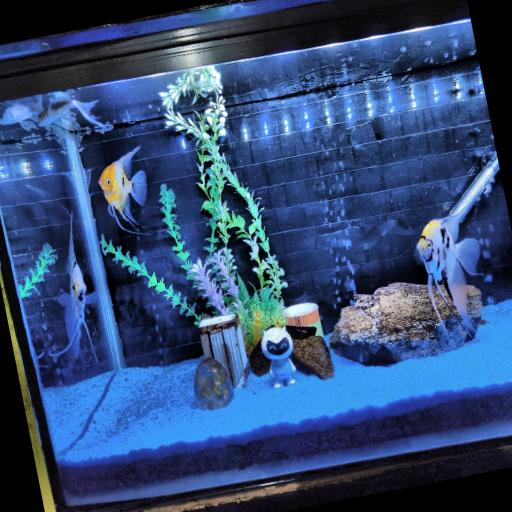Fish: (417, 213, 479, 336), (50, 215, 98, 361), (99, 147, 147, 232), (38, 97, 104, 128), (0, 95, 42, 131), (26, 184, 50, 199)
